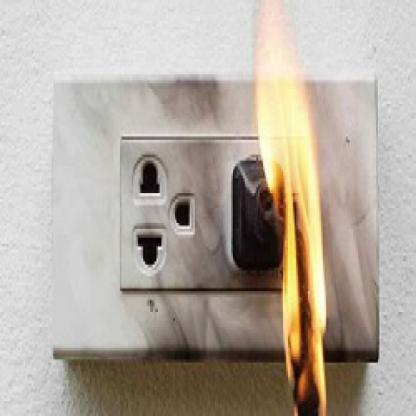fire: (253, 23, 334, 411)
